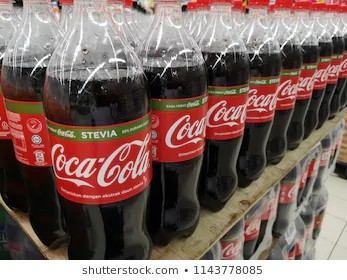coke-bottle-2l: (48, 1, 152, 264), (148, 1, 202, 233), (201, 1, 245, 207), (243, 1, 279, 183), (277, 1, 297, 161)
